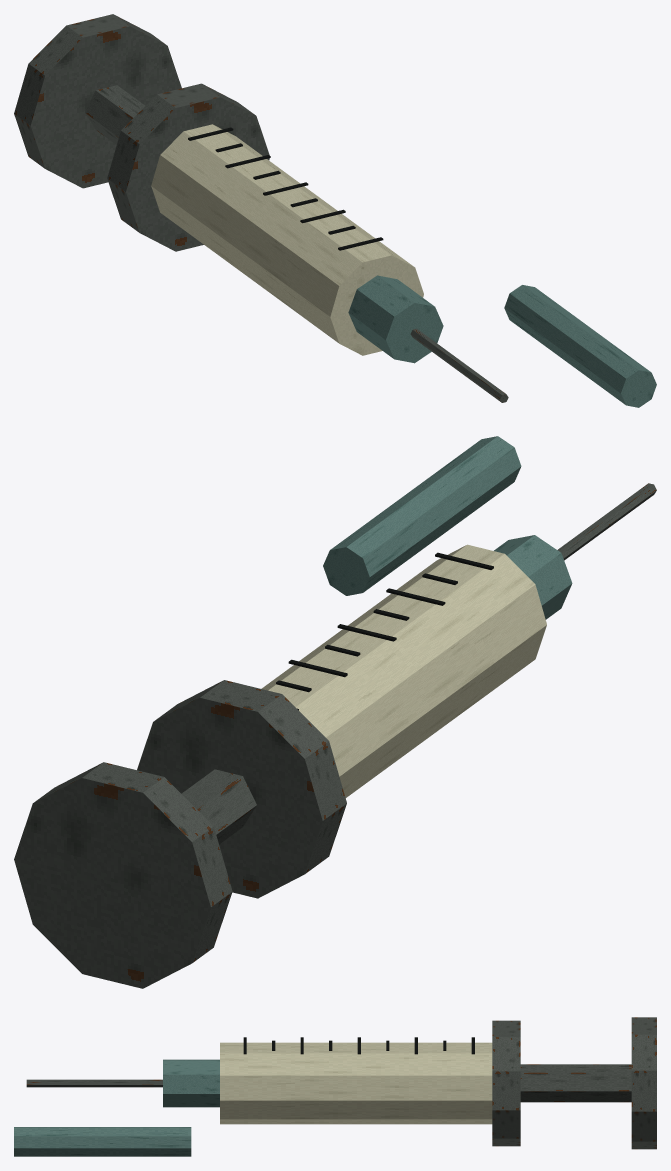
Rendered from syringe.glb.
The picture shows the model from 3 angles, top to bottom: view 1: azimuth 30°, elevation 25°; view 2: azimuth 150°, elevation 25°; view 3: azimuth 270°, elevation 25°; orthographic projection. The views are drawn at different scales.
Parts seen in each view (by area): view 1: Syringe_Mesh.002, Syringe_Plunger_Mesh.002, Separate needle guard.002; view 2: Syringe_Mesh.002, Syringe_Plunger_Mesh.002, Separate needle guard.002; view 3: Syringe_Mesh.002, Syringe_Plunger_Mesh.002, Separate needle guard.002.
Part boxes in pixels (bbox=[...]): Syringe_Mesh.002: bbox=[107, 83, 508, 402]; Syringe_Plunger_Mesh.002: bbox=[14, 14, 181, 188]; Separate needle guard.002: bbox=[504, 285, 656, 407]; Syringe_Mesh.002: bbox=[137, 483, 656, 898]; Syringe_Plunger_Mesh.002: bbox=[14, 762, 256, 988]; Separate needle guard.002: bbox=[323, 436, 521, 595]; Syringe_Mesh.002: bbox=[26, 1020, 520, 1146]; Syringe_Plunger_Mesh.002: bbox=[520, 1017, 656, 1149]; Separate needle guard.002: bbox=[14, 1127, 191, 1156].
Bounding box in the file's own units: 0.061 × 0.0399 × 0.203.
Materials: 1 (1 with a texture image).
